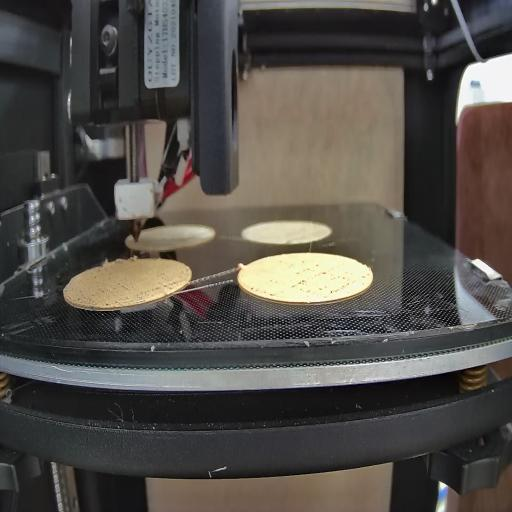under_extrusion: (292, 262, 352, 295), (76, 276, 133, 308), (146, 275, 186, 296), (247, 280, 278, 300)
